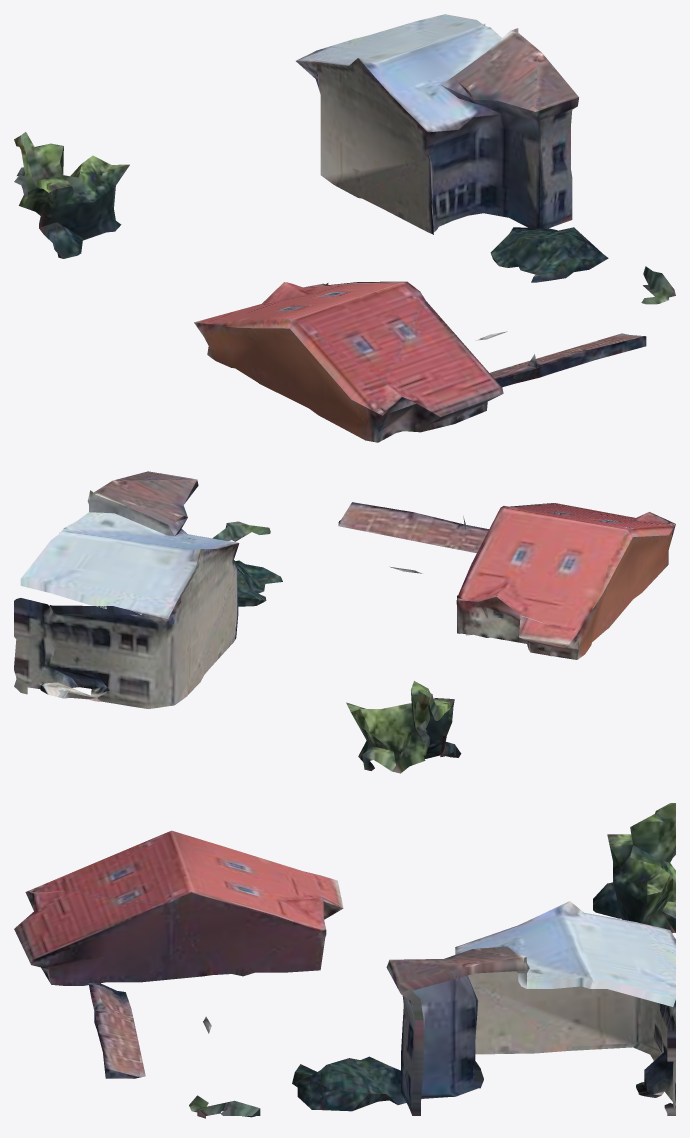
3 views of the same model, one above another, from view 1: azimuth 30°, elevation 25°; view 2: azimuth 150°, elevation 25°; view 3: azimuth 270°, elevation 25° (orthographic). The views are drawn at different scales.
Parts seen in each view (by area): view 1: 30436272704361434734_0; view 2: 30436272704361434734_0; view 3: 30436272704361434734_0.
Part boxes in pixels (left/top/right/bottom): 30436272704361434734_0: left=14, top=14, right=675, bottom=442; 30436272704361434734_0: left=14, top=471, right=675, bottom=773; 30436272704361434734_0: left=14, top=803, right=675, bottom=1118.
Size of the model in its own units: 28.23 by 9.86 by 35.63.
Materials: 1 (1 with a texture image).
